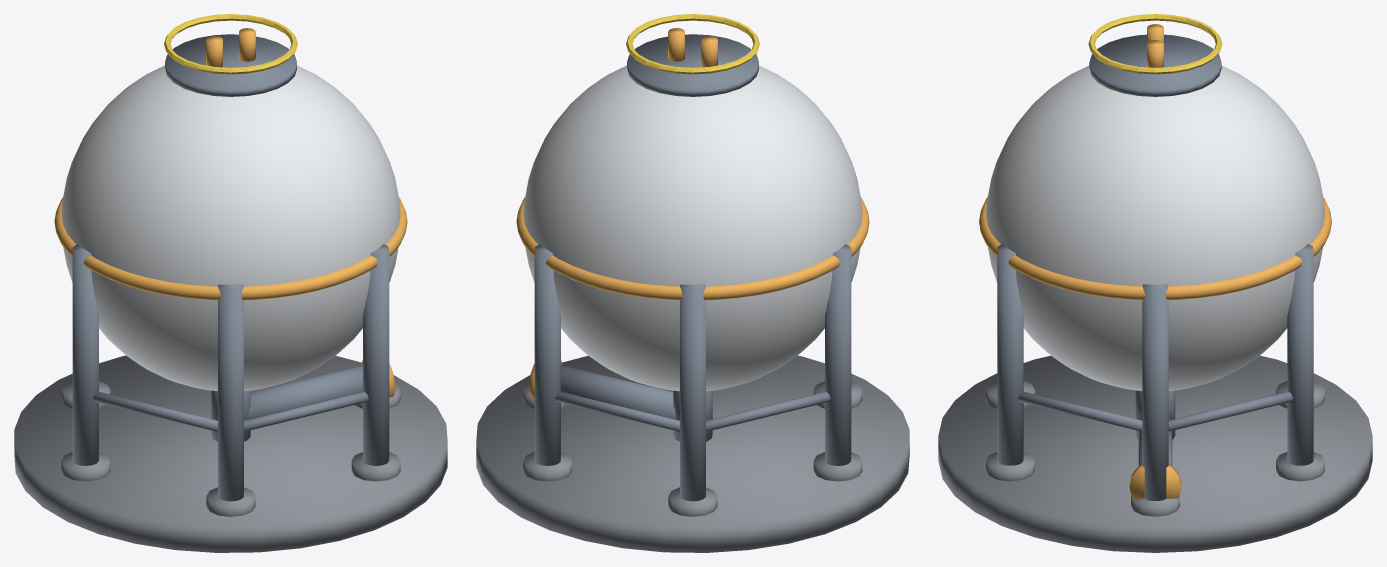
Rendered from horton_sphere.glb.
3 renders of one model, left to right at view 1: azimuth 30°, elevation 25°; view 2: azimuth 150°, elevation 25°; view 3: azimuth 270°, elevation 25°, orthographic.
Visible parts, largest first — view 1: HortonSphereBody, SphereFoundation, SphereLeg_4, SphereLeg_5, SphereLeg_3, TopPlatform, EquatorialBand, BottomHeader, TopRail, TieBeam_3, TieBeam_4, SphereFoot_3 (+3 smaller); view 2: HortonSphereBody, SphereFoundation, SphereLeg_2, SphereLeg_1, SphereLeg_3, TopPlatform, EquatorialBand, BottomHeader, TopRail, TieBeam_1, TieBeam_2, SphereFoot_1 (+3 smaller); view 3: HortonSphereBody, SphereFoundation, SphereLeg_0, TopPlatform, SphereLeg_1, SphereLeg_5, EquatorialBand, TopRail, TieBeam_0, TieBeam_5, SphereFoot_1, SphereFoot_5 (+2 smaller).
Part boxes in pixels (x1,y1,x2,y2): HortonSphereBody: [61, 65, 400, 390]; SphereFoundation: [14, 355, 447, 552]; SphereLeg_4: [218, 284, 243, 501]; SphereLeg_5: [363, 244, 389, 465]; SphereLeg_3: [72, 244, 98, 465]; TopPlatform: [165, 34, 296, 96]; EquatorialBand: [54, 197, 407, 300]; BottomHeader: [248, 365, 362, 419]; TopRail: [164, 14, 297, 74]; TieBeam_3: [93, 391, 217, 431]; TieBeam_4: [244, 391, 368, 431]; SphereFoot_3: [61, 452, 110, 481]; HortonSphereBody: [523, 65, 862, 390]; SphereFoundation: [476, 355, 909, 552]; SphereLeg_2: [680, 284, 705, 501]; SphereLeg_1: [534, 244, 560, 465]; SphereLeg_3: [825, 244, 851, 465]; TopPlatform: [627, 34, 758, 96]; EquatorialBand: [516, 197, 869, 300]; BottomHeader: [561, 365, 675, 419]; TopRail: [626, 14, 759, 74]; TieBeam_1: [555, 391, 679, 431]; TieBeam_2: [706, 391, 830, 431]; SphereFoot_1: [523, 452, 572, 481]; HortonSphereBody: [986, 65, 1324, 390]; SphereFoundation: [938, 355, 1372, 552]; SphereLeg_0: [1142, 284, 1168, 500]; TopPlatform: [1089, 34, 1221, 96]; SphereLeg_1: [1287, 244, 1313, 465]; SphereLeg_5: [997, 244, 1023, 465]; EquatorialBand: [979, 197, 1331, 300]; TopRail: [1088, 14, 1222, 74]; TieBeam_0: [1168, 391, 1292, 431]; TieBeam_5: [1018, 391, 1142, 431]; SphereFoot_1: [1276, 452, 1324, 481]; SphereFoot_5: [986, 452, 1034, 481].
Size of the model in its own units: 0.92 by 0.995 by 0.92.
